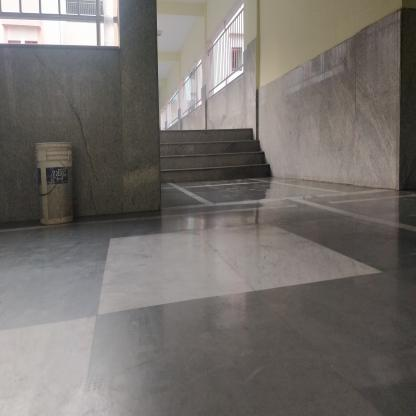stairs: (163, 127, 254, 186)
